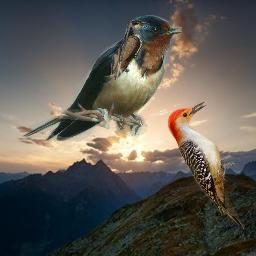Cuckoo: (111, 20, 158, 80)
Swallow: (22, 15, 182, 141)
Woodpecker: (167, 101, 245, 232)
